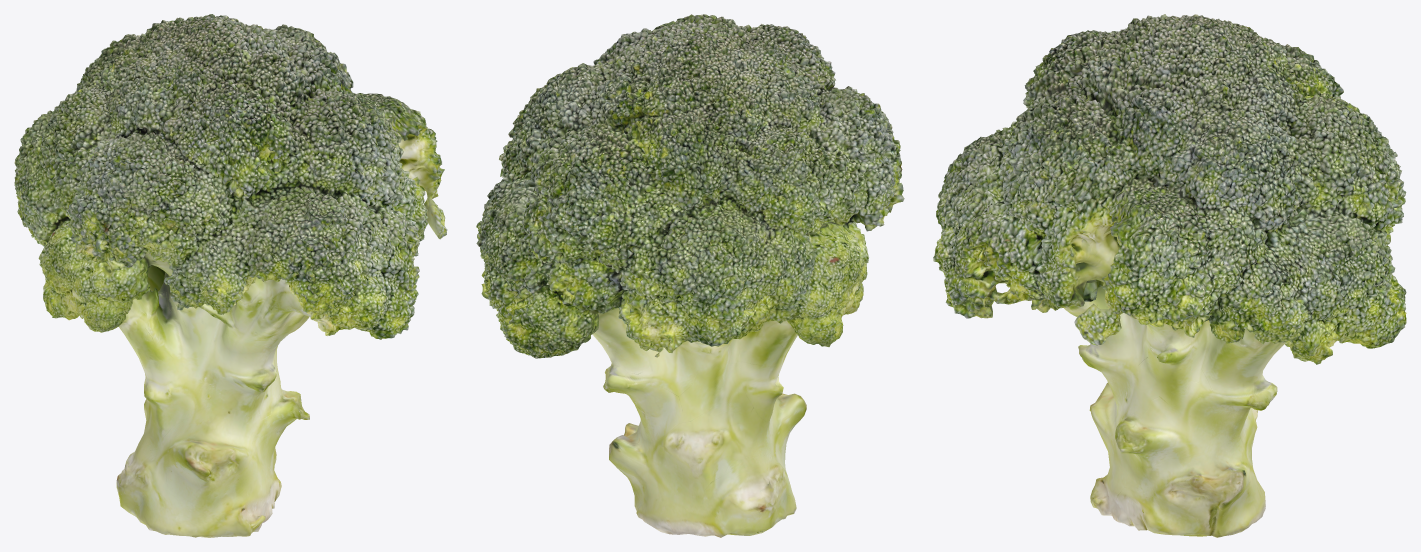
File: broccoli.glb
3 views of the same model, side by side, from view 1: azimuth 30°, elevation 25°; view 2: azimuth 150°, elevation 25°; view 3: azimuth 270°, elevation 25° (orthographic). The views are drawn at different scales.
Visible parts, largest first — view 1: Object_2; view 2: Object_2; view 3: Object_2.
Part boxes in pixels (x1,y1,x2,y2): Object_2: [14, 14, 447, 537]; Object_2: [476, 14, 904, 537]; Object_2: [933, 14, 1406, 537].
Size of the model in its own units: 0.5703 by 0.7132 by 0.6209.
Materials: 1 (1 with a texture image).
